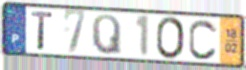1: (134, 14, 151, 59)
7: (62, 9, 87, 58)
C: (187, 18, 219, 62)
O: (155, 16, 186, 61)
Q: (90, 13, 123, 57)
T: (30, 10, 55, 52)
